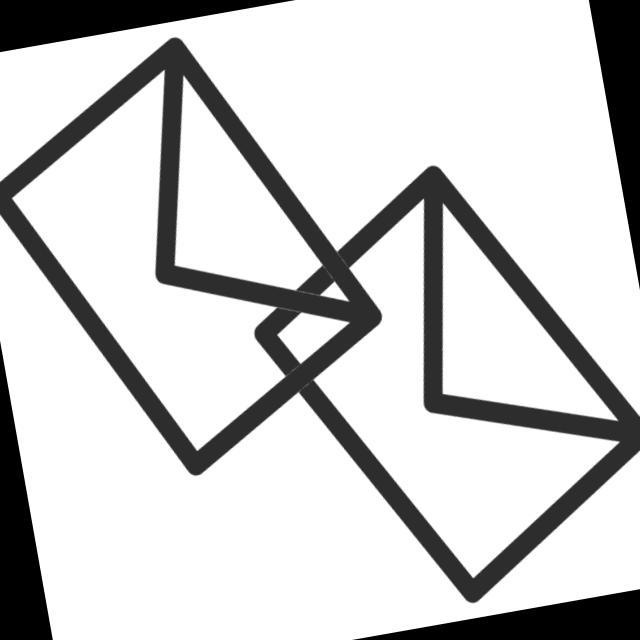letter: (1, 2, 411, 511), (227, 149, 640, 620)
